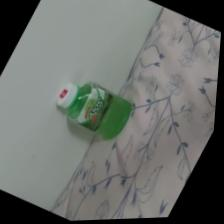plastic: (41, 67, 143, 149)
